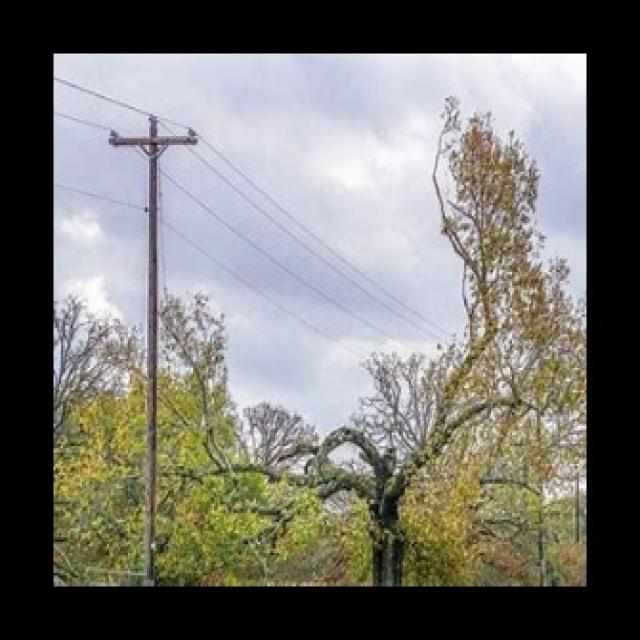utility poles: (95, 100, 194, 584)
